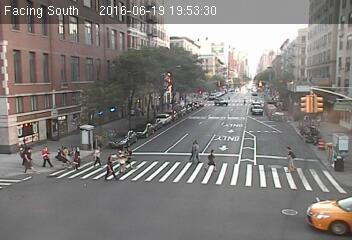neg: (248, 164, 274, 199), (169, 186, 188, 210), (135, 176, 153, 200), (66, 12, 84, 35), (214, 184, 231, 208), (247, 19, 263, 41), (168, 9, 184, 29), (317, 51, 332, 71), (287, 34, 302, 54), (38, 91, 52, 110), (3, 102, 17, 121), (63, 190, 77, 209), (175, 99, 189, 117), (286, 198, 300, 216), (302, 91, 315, 109), (202, 29, 215, 46), (97, 186, 109, 203), (180, 66, 192, 83), (20, 74, 32, 90), (110, 13, 122, 29), (239, 129, 251, 144), (23, 9, 35, 24), (65, 87, 76, 102), (23, 193, 34, 208), (153, 54, 164, 68), (137, 11, 147, 25), (96, 6, 106, 20), (229, 99, 239, 112), (40, 54, 49, 66), (133, 68, 141, 80), (65, 46, 73, 58), (208, 108, 216, 119), (98, 63, 106, 74)
pos: (276, 143, 302, 178), (12, 143, 35, 174), (68, 142, 89, 171), (183, 137, 204, 164), (87, 142, 107, 168), (101, 155, 120, 180), (34, 142, 53, 166), (202, 148, 220, 171), (129, 107, 137, 117), (241, 97, 248, 107)
